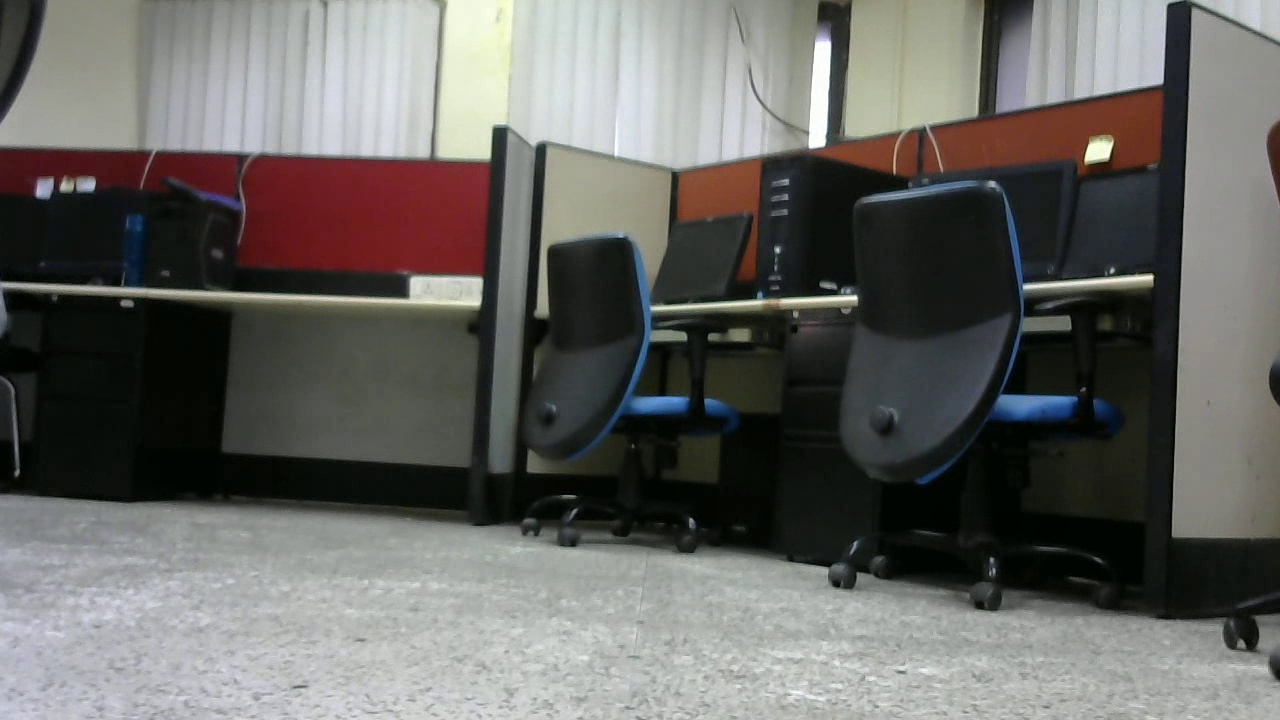chair: (812, 168, 1108, 608), (506, 230, 748, 557)
